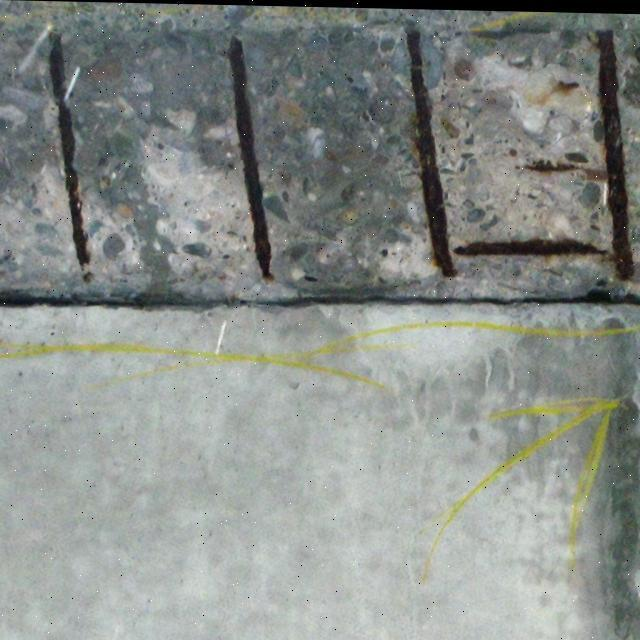D0w0: (2, 14, 639, 341)
